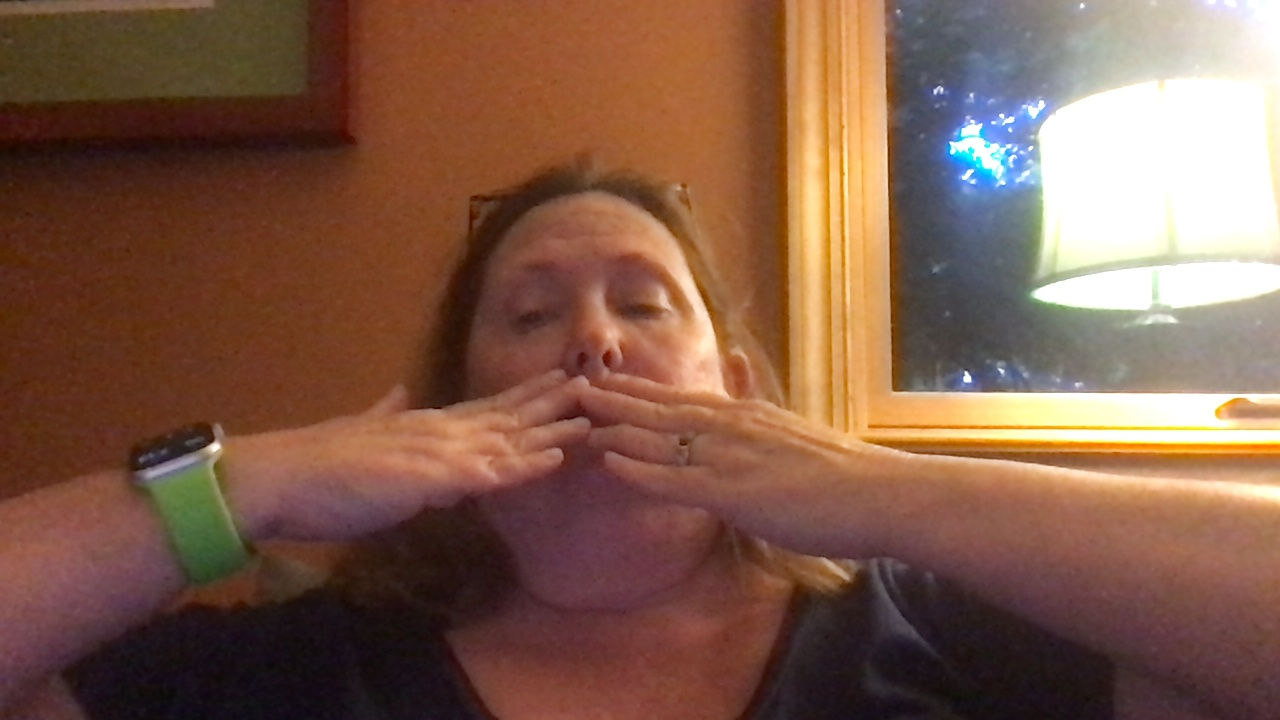thankyou: (273, 366, 884, 569)
